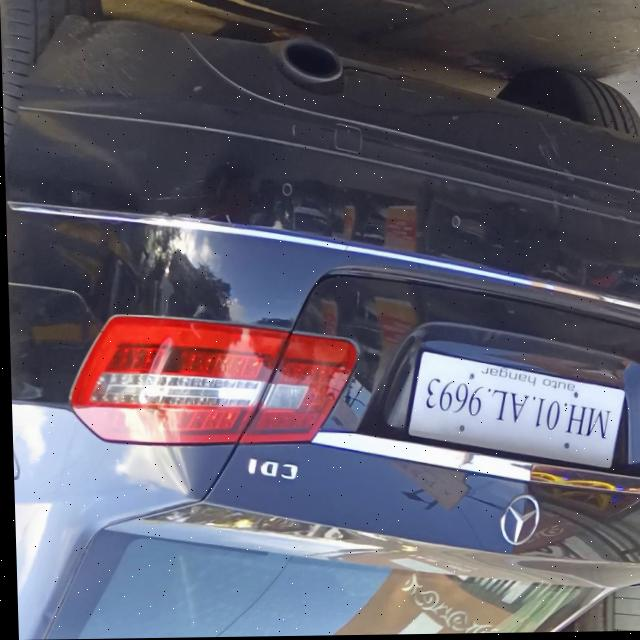plate: (401, 340, 625, 476)
